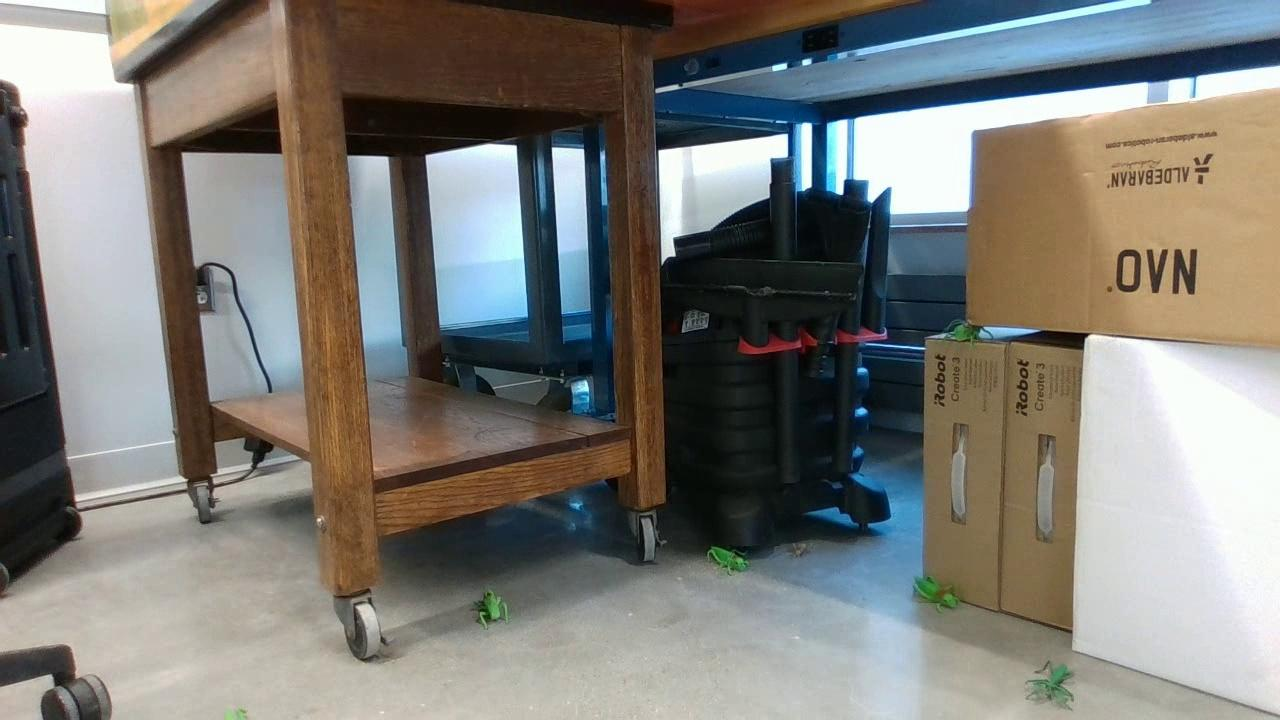grasshopper: (906, 573, 958, 616), (699, 541, 757, 575), (469, 591, 519, 628), (942, 321, 993, 349)
